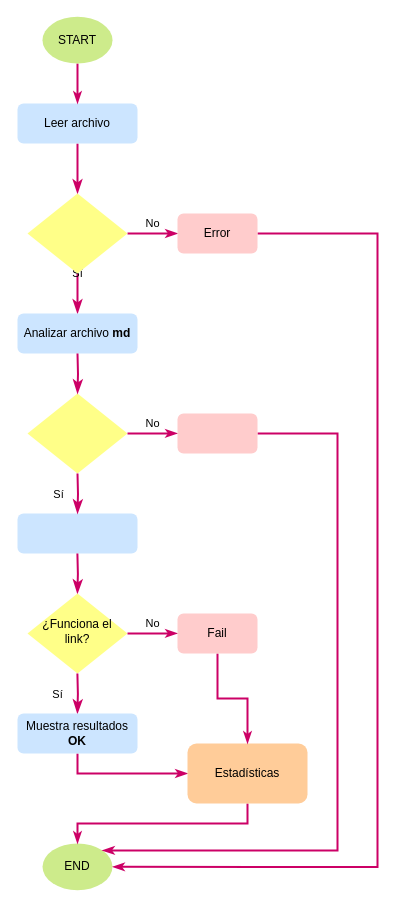
The diagram is 403 pixels wide and 908 high, and some of its shapes have lost their labels. Each missing label, with the centre of its shape:
Imprimir links: (77,533)
No hay links: (217,433)
¿Contiene links ?: (77,433)
¿Es archivo .md ?: (77,233)
